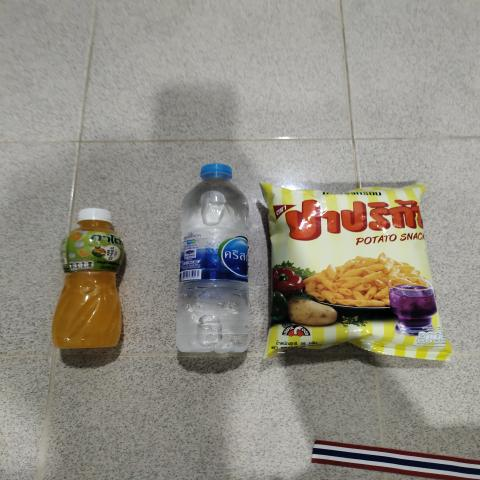crystal: (188, 192, 247, 360)
paprika: (276, 190, 420, 348)
